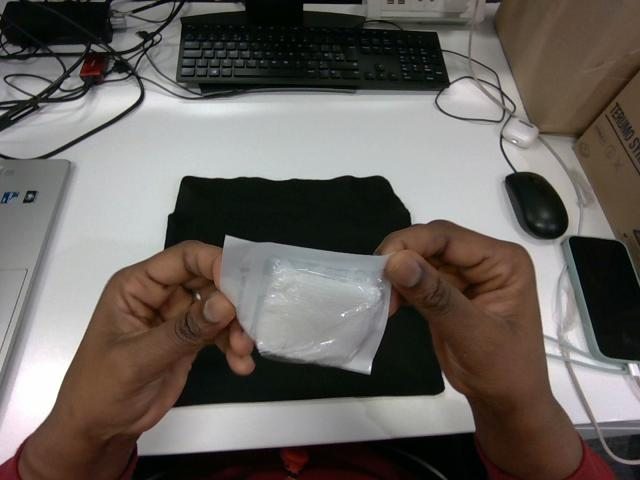gauze: (220, 236, 390, 373)
